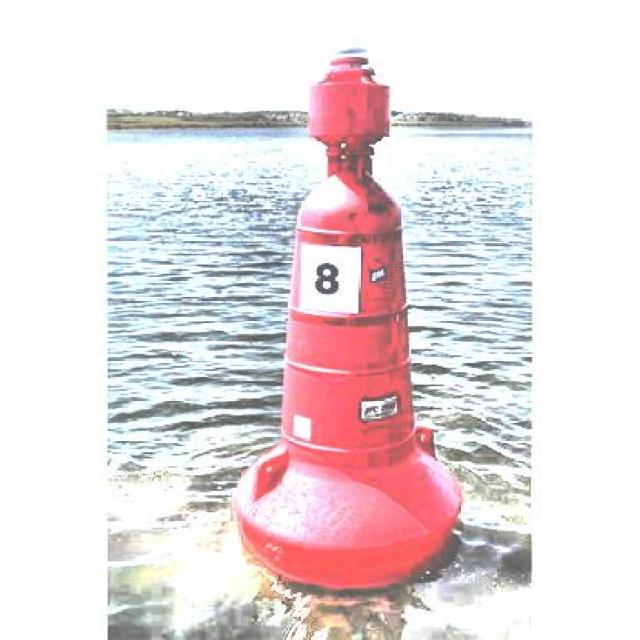Red Buoy: (240, 60, 464, 589)
